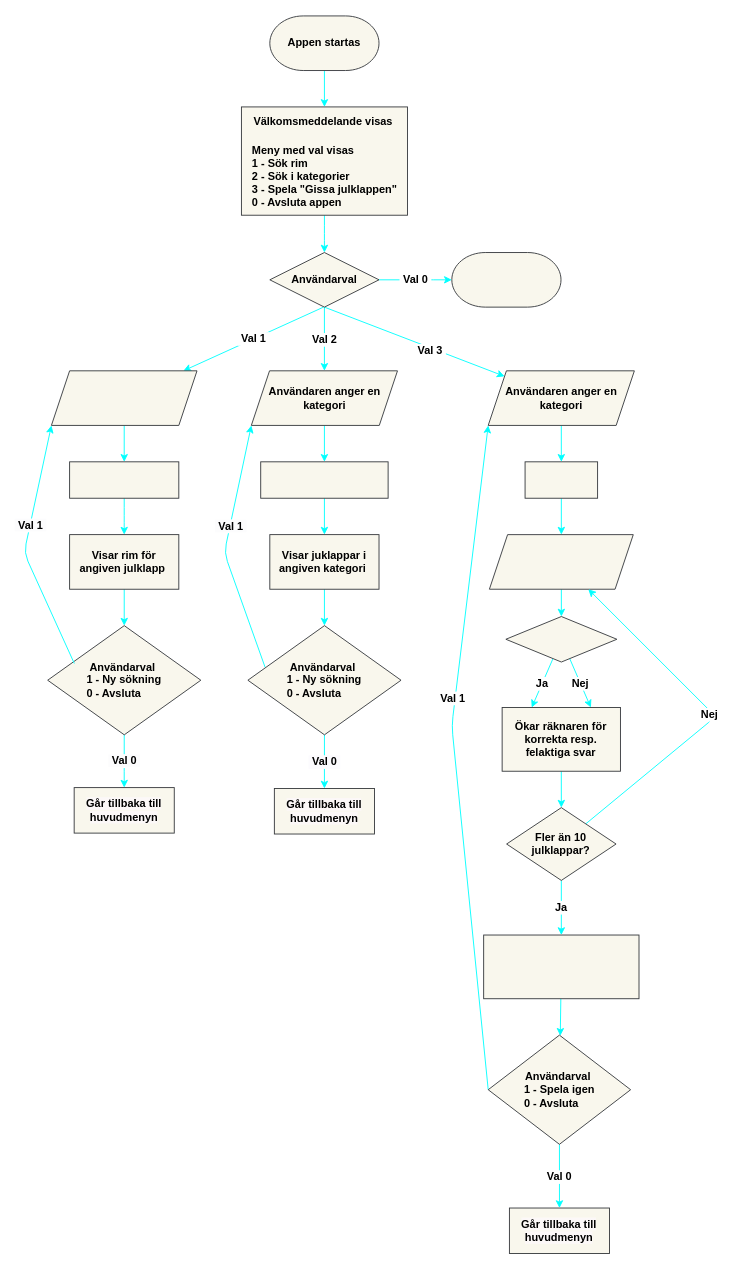
This 740x1269 diagram has some shape labels left out. Each missing label, with the centre of its shape:
"Användaren anger en julklapp" belongs at [124,397].
"Användaren gissar julklappen" belongs at [560,561].
"Appen avslutas" belongs at [506,279].
"Rätt svar?" belongs at [561,639].
"Söker efter juklappar" belongs at [324,479].
"Söker efter rim" belongs at [124,479].
"Visar rim" belongs at [561,479].
"Visar sammanställning av korrekta och felaktiga svar" belongs at [561,966].
